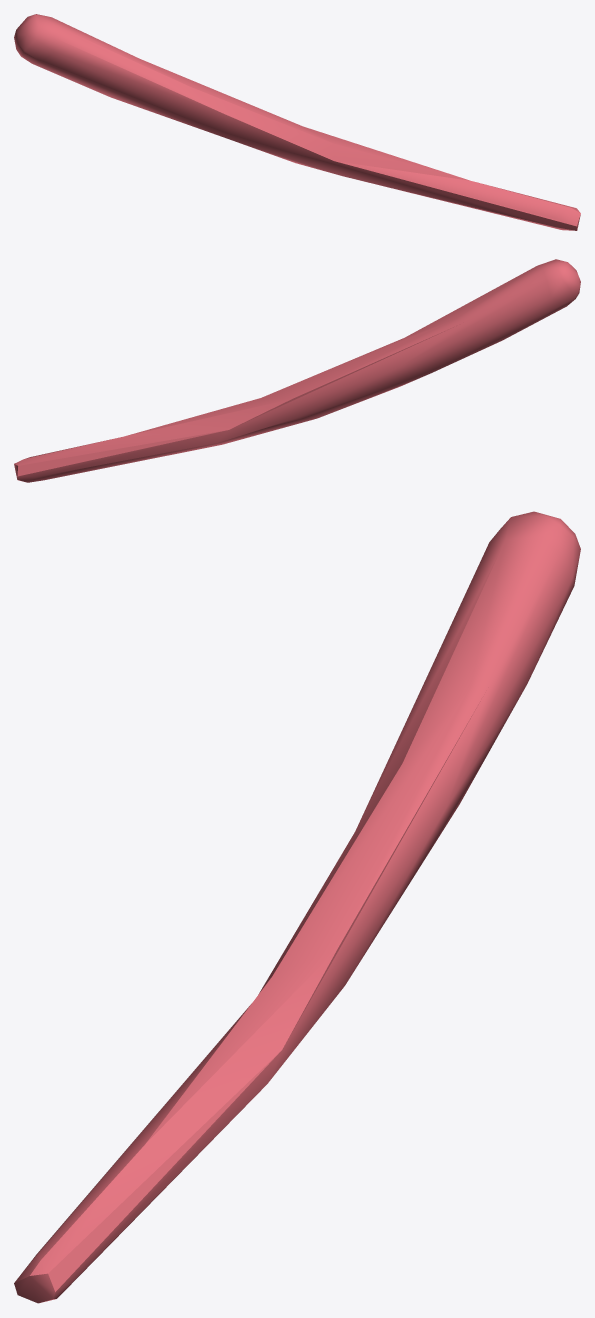
Rendered from fma13289_fj6029.glb.
The picture shows the model from 3 angles, top to bottom: view 1: azimuth 30°, elevation 25°; view 2: azimuth 210°, elevation 25°; view 3: azimuth 270°, elevation 25°; orthographic projection. The views are drawn at different scales.
Parts seen in each view (by area): view 1: FMA13289_FJ6029; view 2: FMA13289_FJ6029; view 3: FMA13289_FJ6029.
Part boxes in pixels (box(x1,y1,x2,y2)): FMA13289_FJ6029: box(14, 14, 580, 230); FMA13289_FJ6029: box(14, 259, 580, 482); FMA13289_FJ6029: box(14, 511, 580, 1303).
Bounding box in the file's own units: 0.0288 × 0.0136 × 0.0171.
